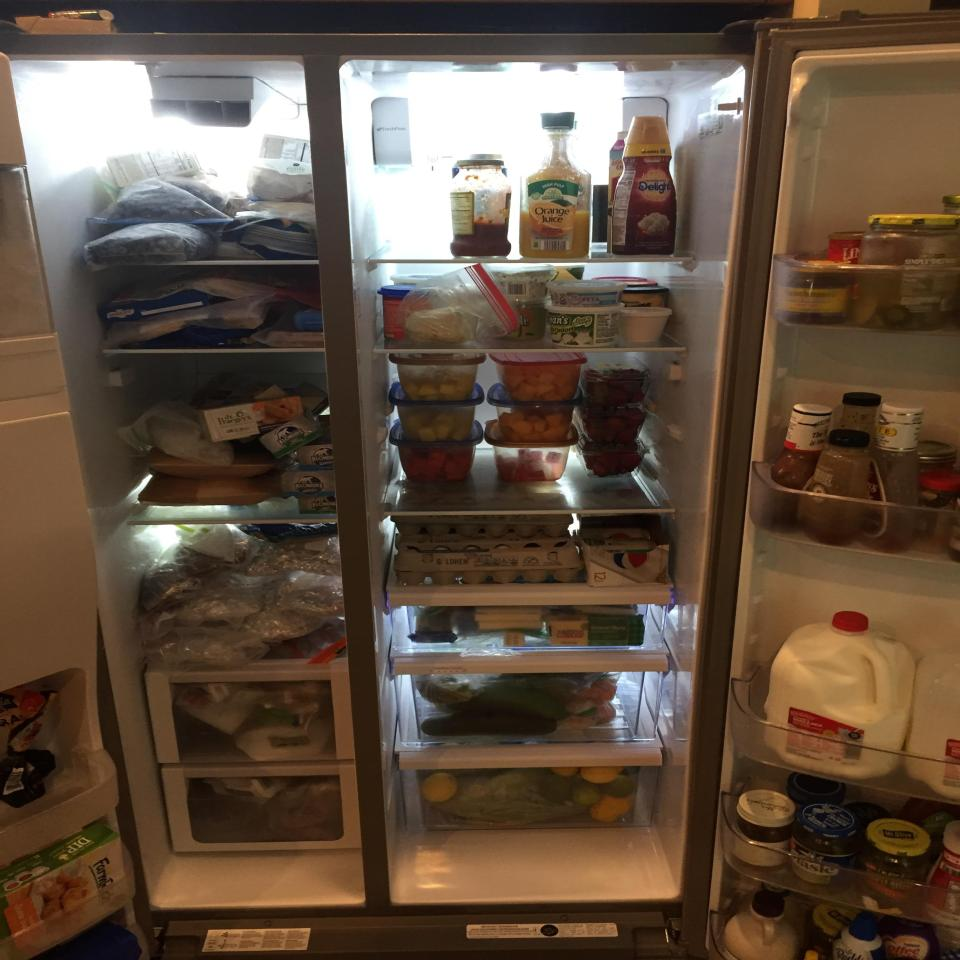Huevos: (396, 536, 583, 583), (391, 492, 573, 537)
Leche: (764, 611, 912, 778)
Limón: (422, 773, 457, 802)
Queso: (548, 614, 648, 647)
lime: (607, 776, 636, 797)
strawberries: (582, 358, 649, 402), (576, 440, 649, 477), (577, 402, 647, 440)
